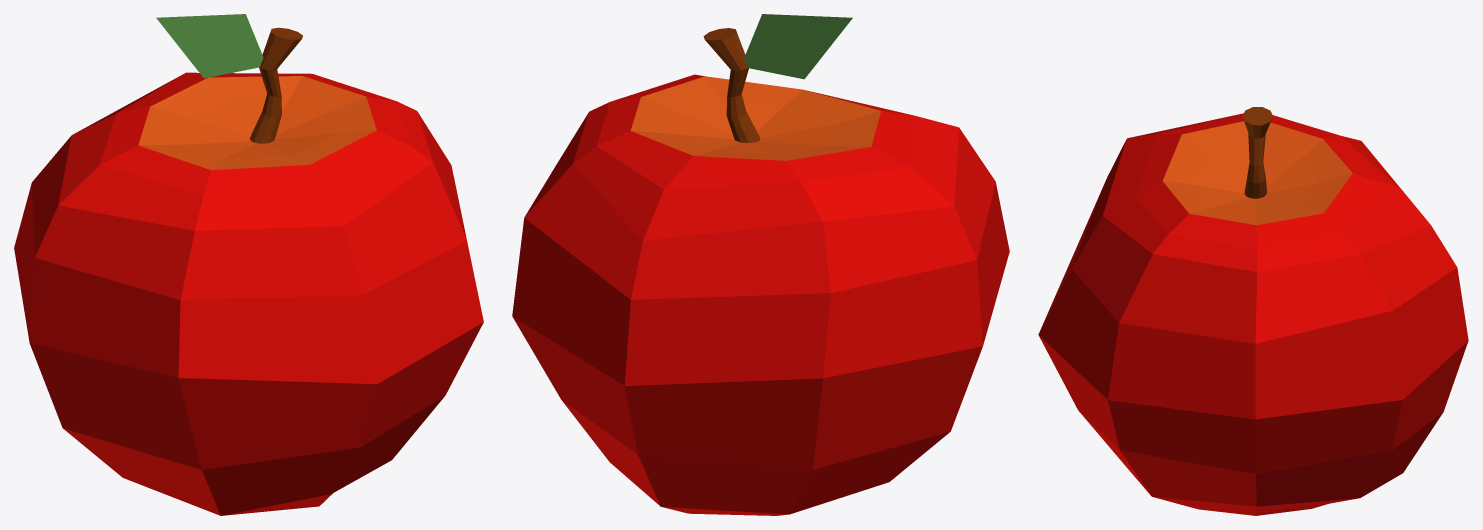
The model's file is apple.fbx.
3 renders of one model, left to right at view 1: azimuth 30°, elevation 25°; view 2: azimuth 150°, elevation 25°; view 3: azimuth 270°, elevation 25°, orthographic. The views are drawn at different scales.
Visible parts, largest first — view 1: apple; view 2: apple; view 3: apple.
Part boxes in pixels (x1,y1,x2,y2): apple: (14,14,483,515); apple: (512,14,1009,515); apple: (1038,107,1468,515).
Bounding box in the file's own units: 12.66 × 13.59 × 12.15.
